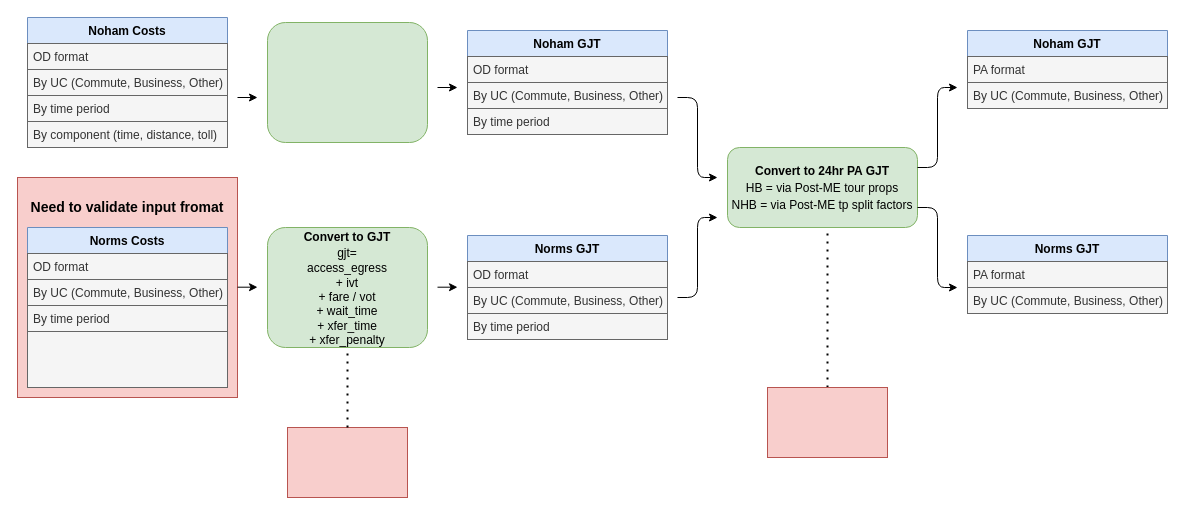
Image size: 1185x515. Some labels were removed from this diagram. Here are the shapes that lost their labels. From the top down, the centre of each, then its label:
(347,82): Convert to GJT gjt= time + voc*distance + toll / vot
(127,359): By component (access_egress, ivt, fare, wait_time, xfer_time, xfer_penalty)
(827,422): Will Need to get NoRMS Tour Props and TP splits Different by year?
(347,462): Need to do per year of elasticty as vot and voc change
